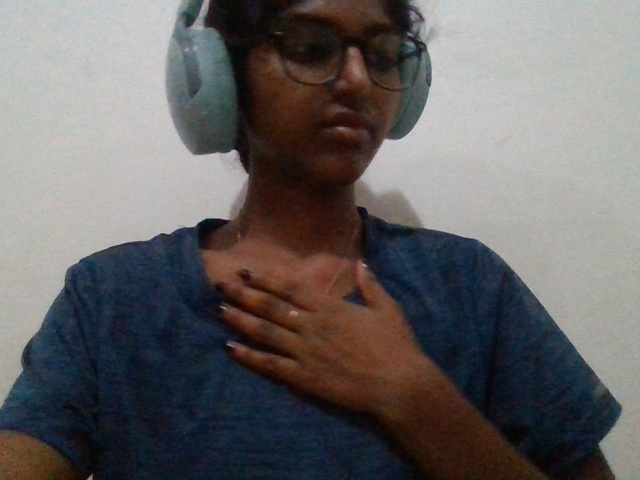Please: (183, 231, 484, 470)
